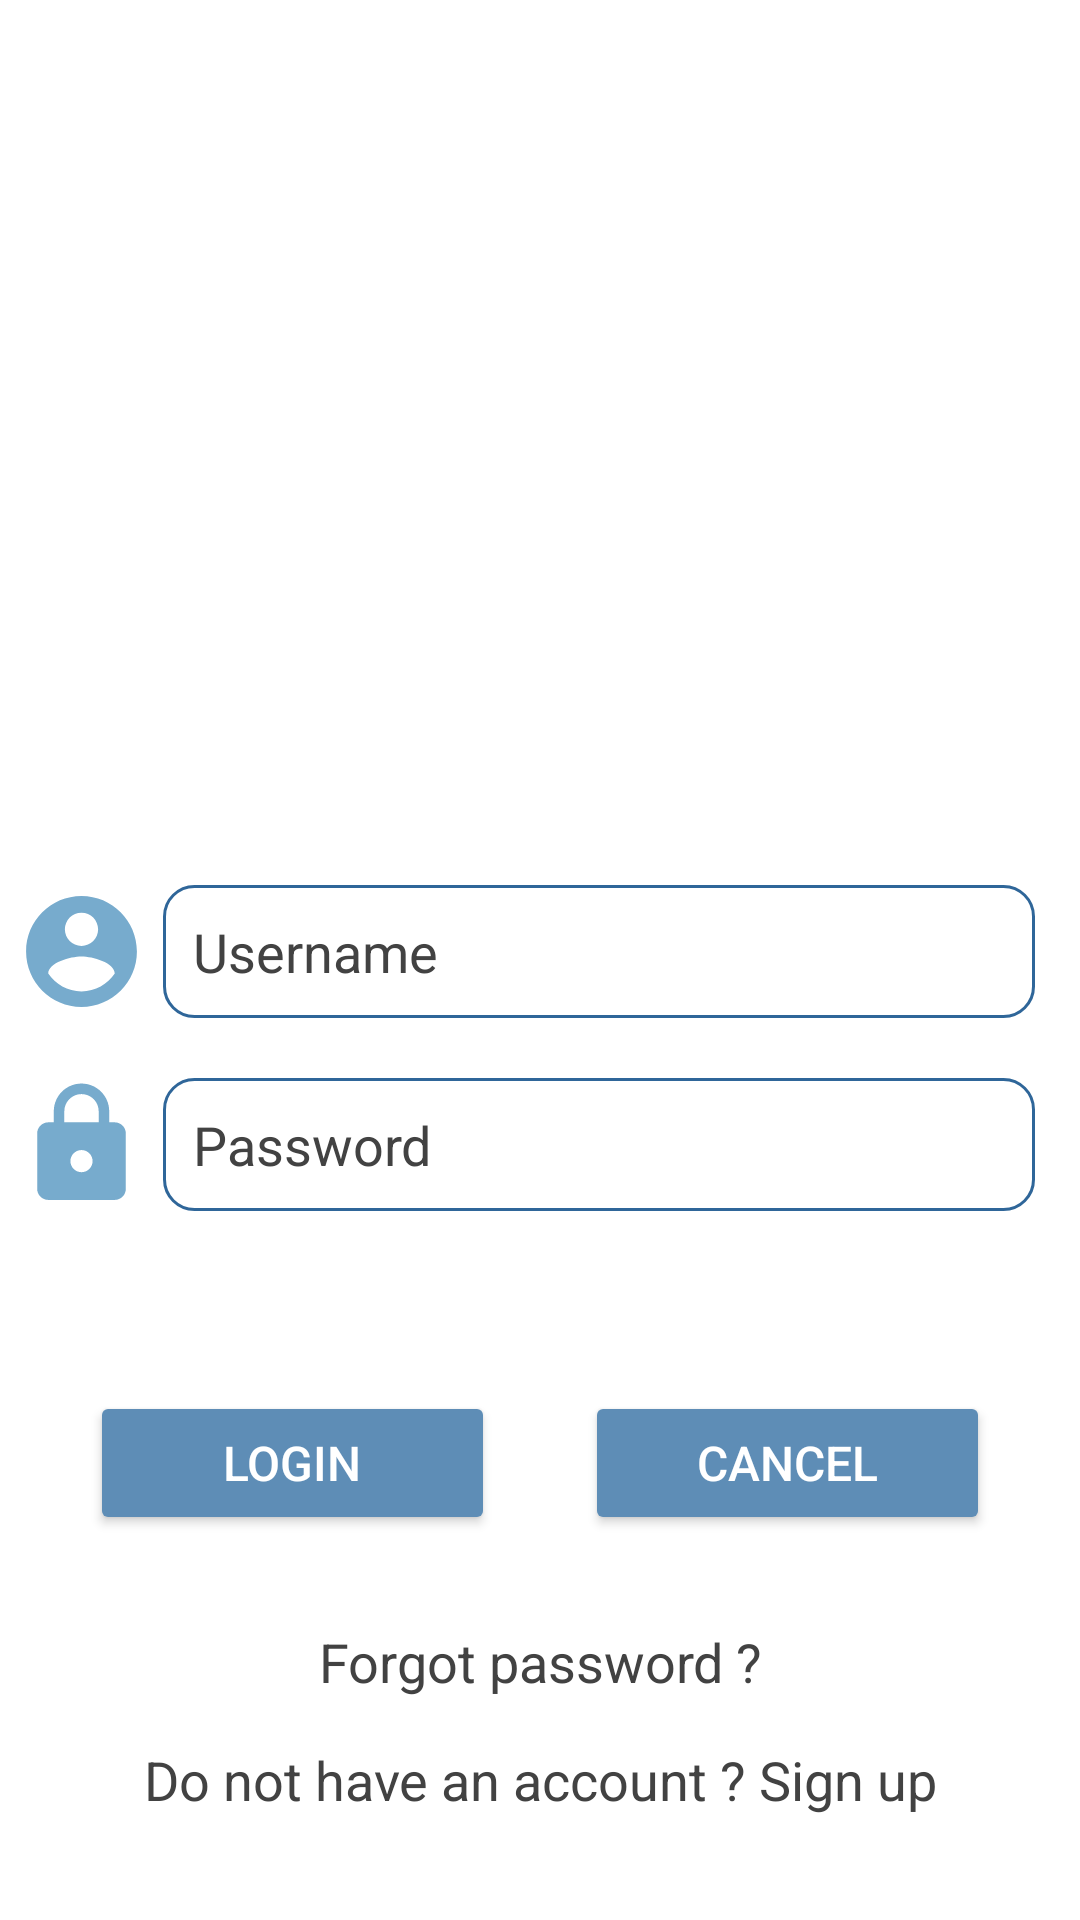

Point at icon controls on the screen. Image size 1080px×1920px, points as [x,y].
lock: [81,1141]
